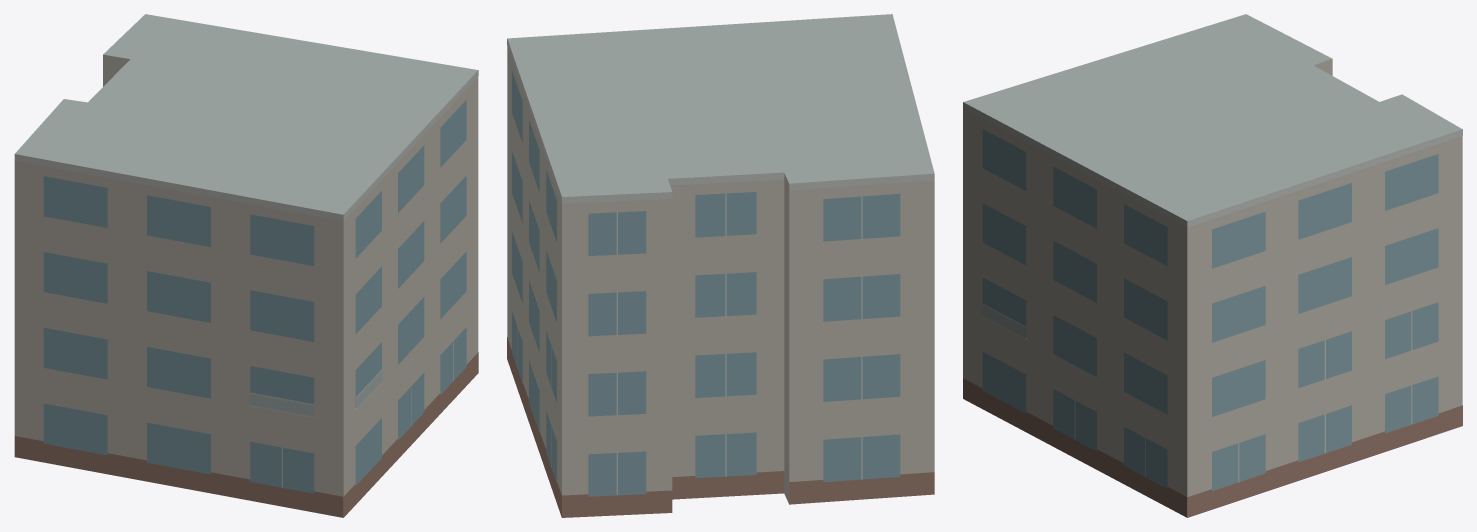
The model's file is survey-upis-32680521.glb.
3 views of the same model, side by side, from view 1: azimuth 30°, elevation 25°; view 2: azimuth 150°, elevation 25°; view 3: azimuth 270°, elevation 25° (orthographic). The views are drawn at different scales.
Visible parts, largest first — view 1: survey-upis-32680521.tmp; view 2: survey-upis-32680521.tmp; view 3: survey-upis-32680521.tmp.
Part boxes in pixels (left/top/right/bottom): survey-upis-32680521.tmp: left=14, top=14, right=478, bottom=517; survey-upis-32680521.tmp: left=507, top=14, right=934, bottom=517; survey-upis-32680521.tmp: left=963, top=14, right=1462, bottom=517.
Bounding box in the file's own units: 17.23 × 11.5 × 17.56.
